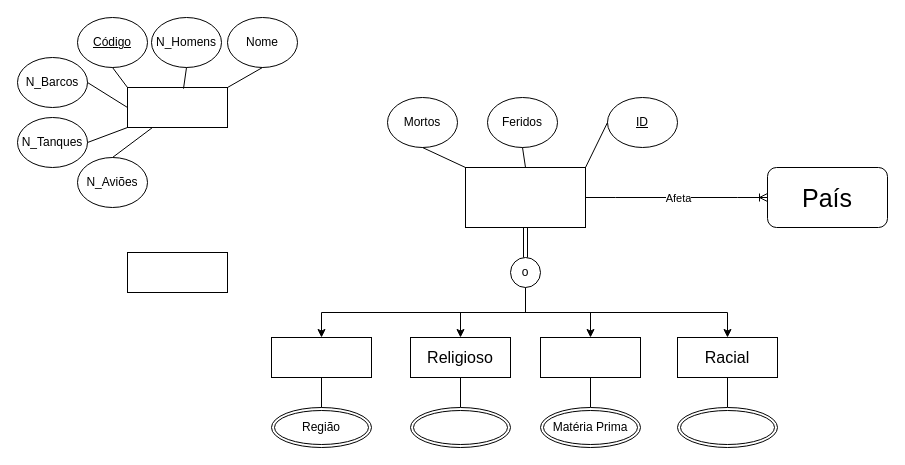
The diagram is 905 pixels wide and 465 high, and some of its shapes have lost their labels. The shapes that lost their labels are listed below. From the top down, each one's box as (x1, y1, x2, y2) in pixels, then its label:
(126, 86, 228, 128): Grupo Armado
(464, 166, 586, 228): Conflito
(126, 252, 228, 292): Divisão
(270, 336, 372, 378): Territorial
(540, 336, 640, 378): Econômico
(410, 406, 510, 448): Religião
(676, 406, 778, 448): Etnia
